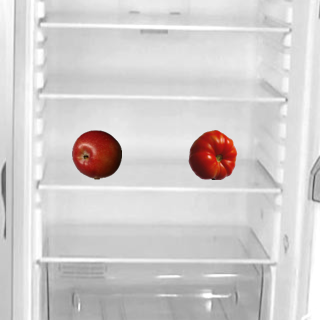Apple Braeburn: (71, 129, 121, 179)
Tomato 3: (187, 129, 237, 179)
